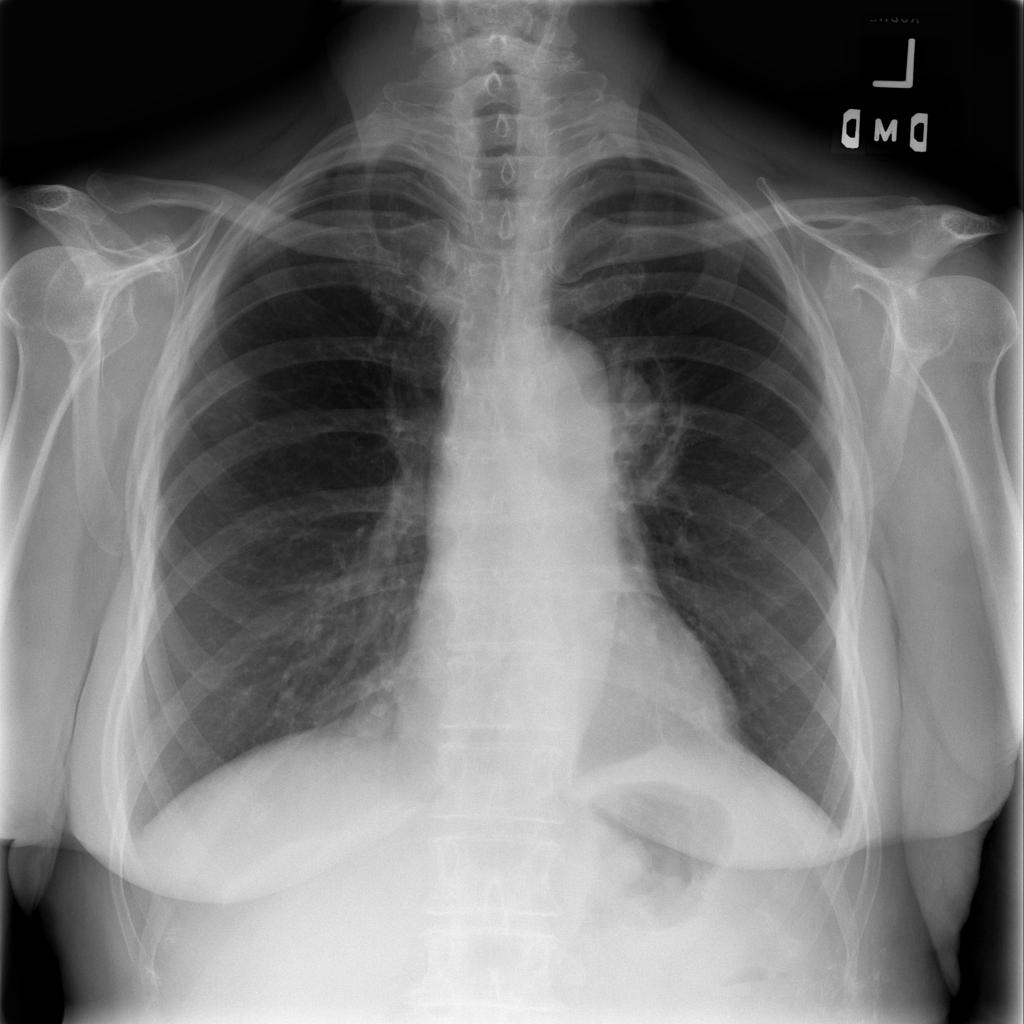nodule: (336, 683, 411, 756)
